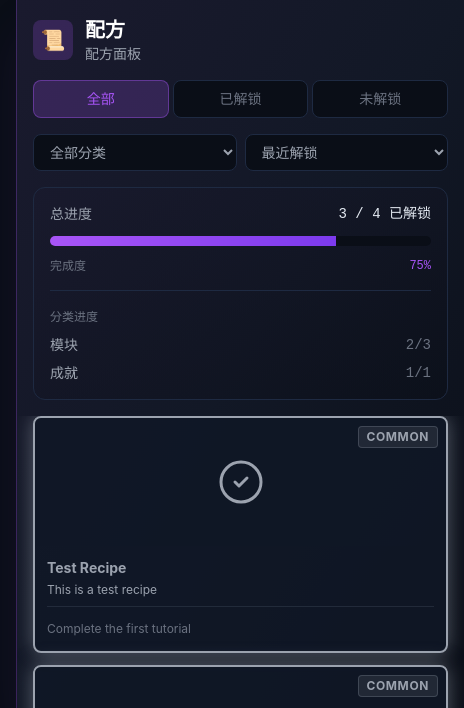
Test: RecipePanel Component › AC-182-002: RecipePanel filtering works › filters can be combined (tab + category)
Click unlocked tab
Click the button with test id "recipe-tab-unlocked" at (241, 99), box [173, 80, 308, 118]
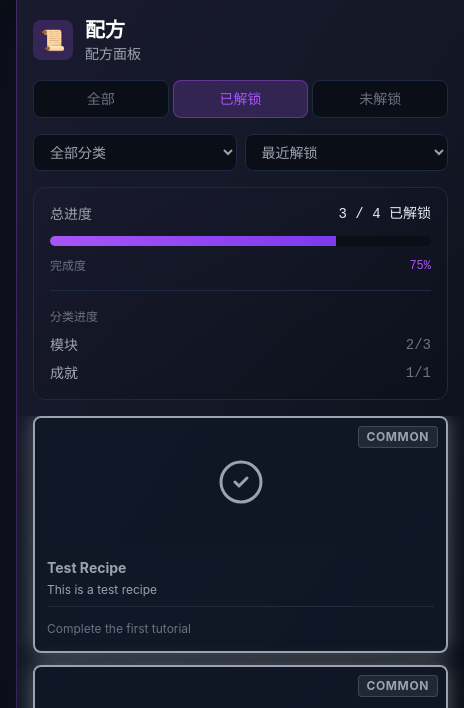
Select modules category
Select "模块" in the dropdown with test id "recipe-category-filter" at (135, 152), box [33, 134, 236, 171]
(page scrolled)
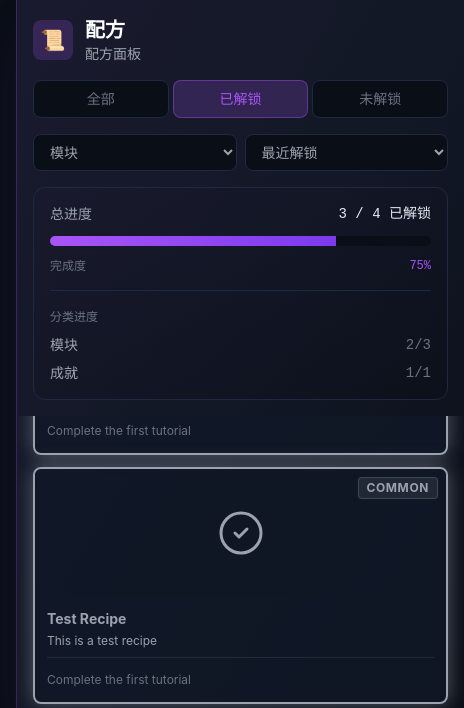
Now the element with test id "recipe-card-r4" is shown, box [33, 467, 448, 704]
